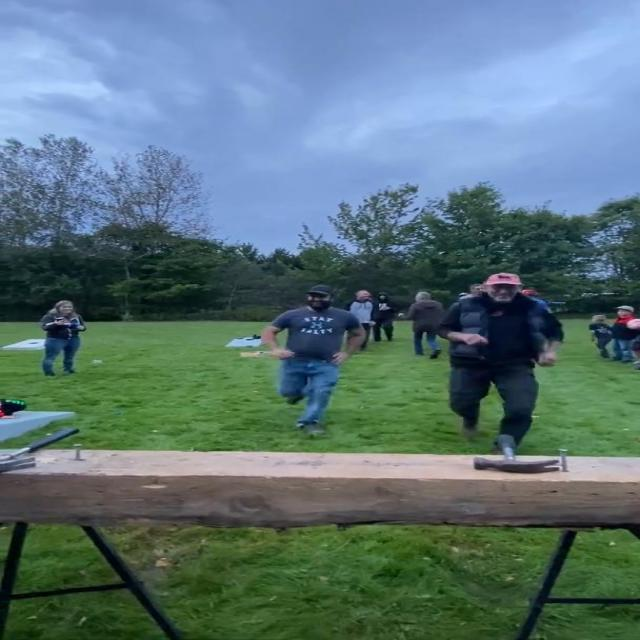hammer: (0, 428, 82, 472), (472, 434, 561, 474)
